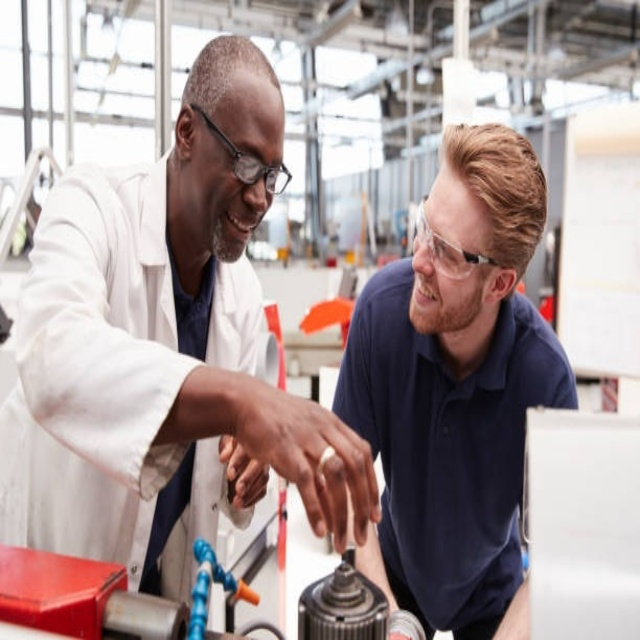Gafas: (191, 106, 292, 196), (415, 195, 510, 280)
Sin_guantes: (239, 370, 385, 552), (217, 431, 271, 513)
Sin_mascara: (408, 265, 448, 333), (212, 204, 260, 259)
